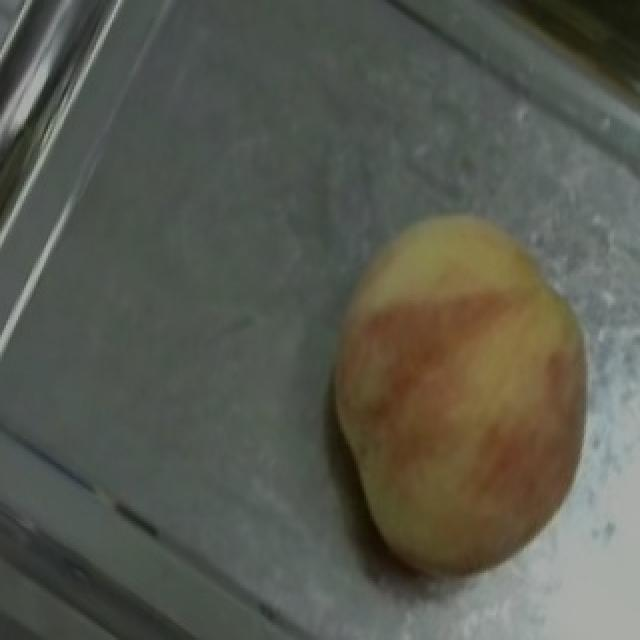Fruit: (294, 171, 624, 519)
